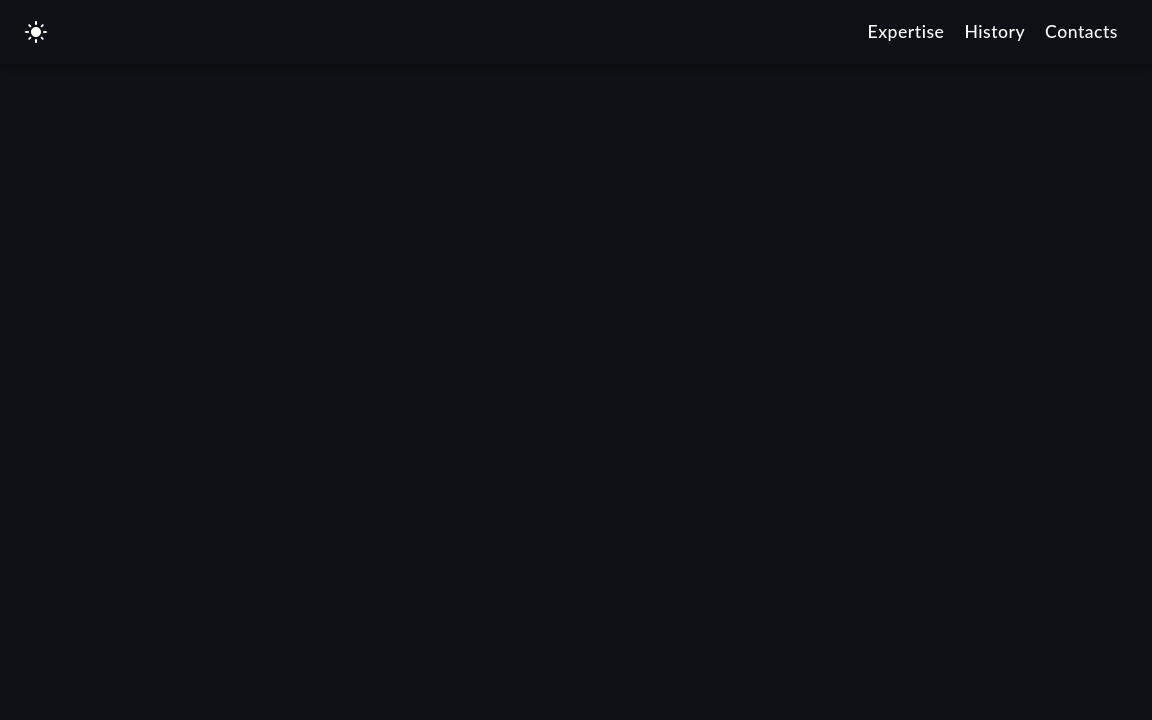
Test: App › switches between light mode and dark mode
The width and height of the screenshot is (1152, 720).
Click the icon with id "light-mode-button": (36, 32) [24,20,48,44]
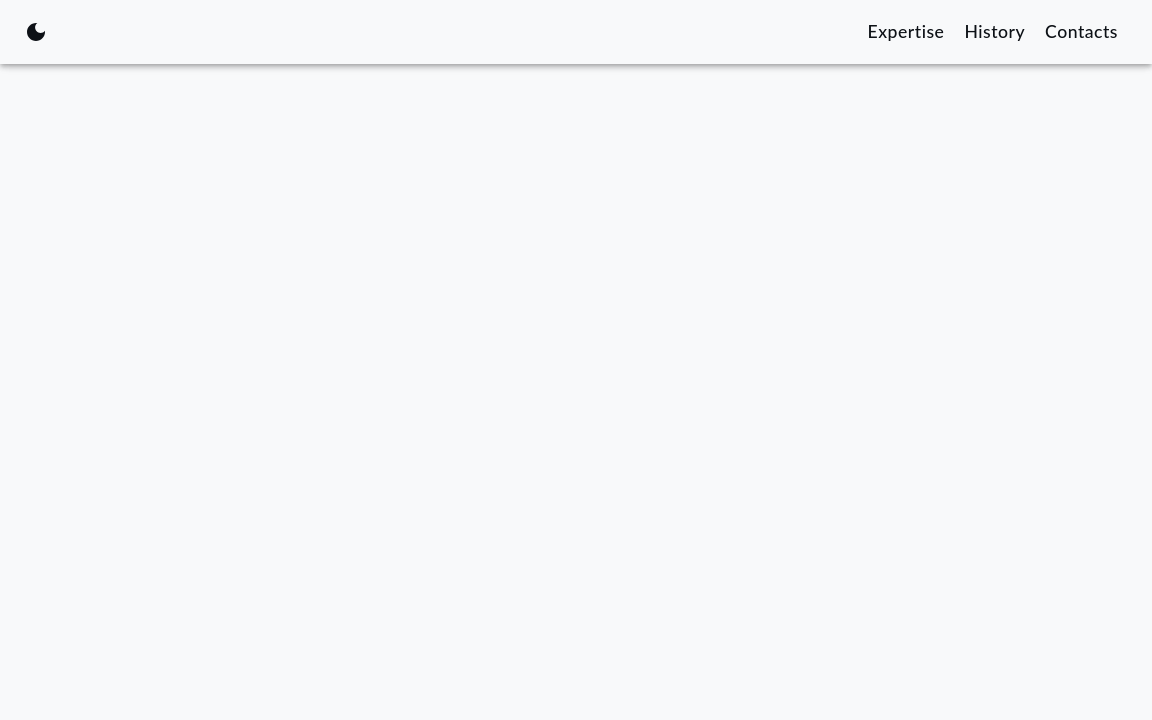
Result: the icon with id "dark-mode-button" is shown
Click the icon with id "dark-mode-button": (36, 32) [24,20,48,44]
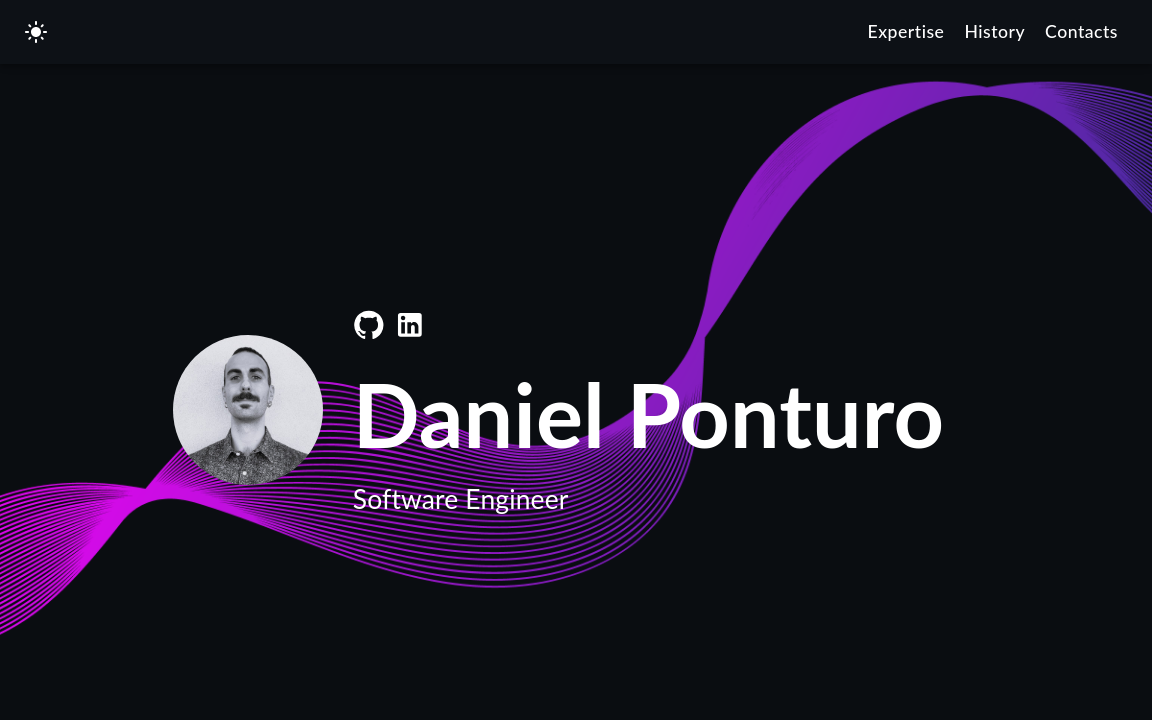
Result: the icon with id "light-mode-button" is shown at [24,20,48,44]
